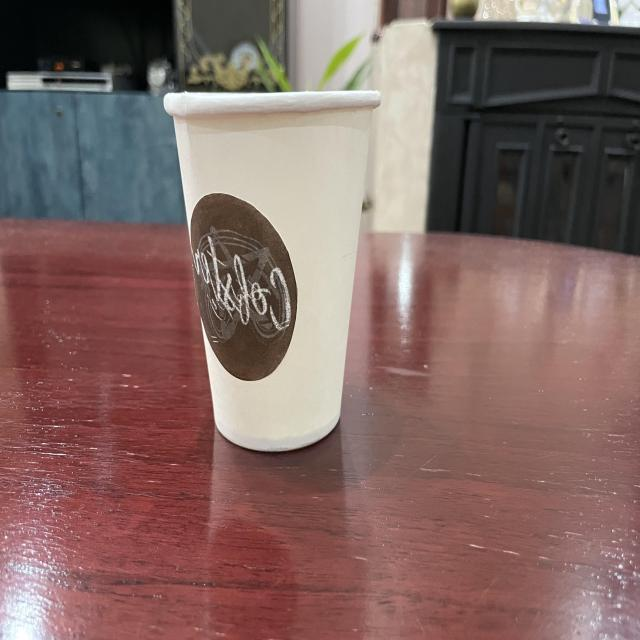medium: (153, 75, 390, 461)
